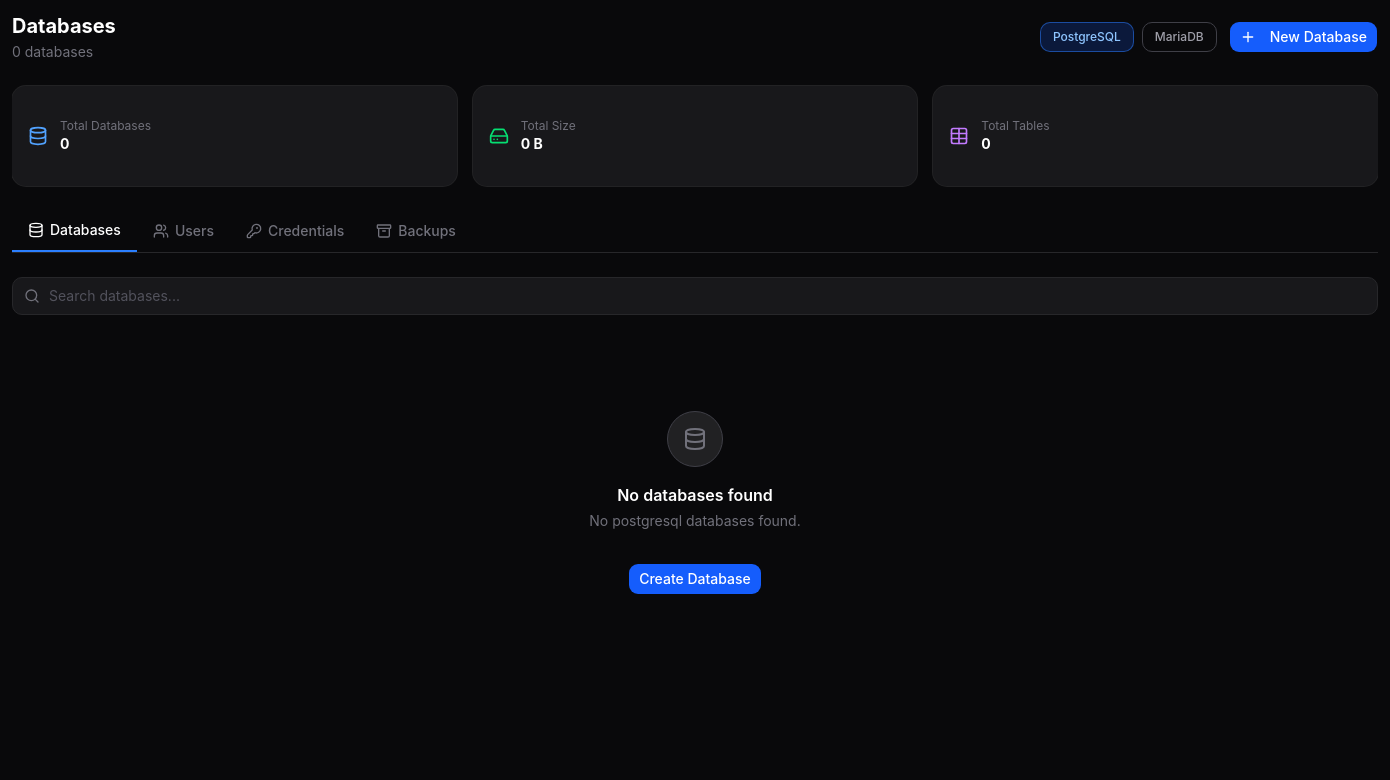
Scenario: Database page failure states › keeps backup inventory failures distinct from an empty backup directory
Check: the heading "No databases found" is shown, box [617, 483, 773, 507]
What coordinates should you click on to do the following:
click the button "Backups"
I would click on:
 (416, 231)
Its box is [360, 210, 472, 252].
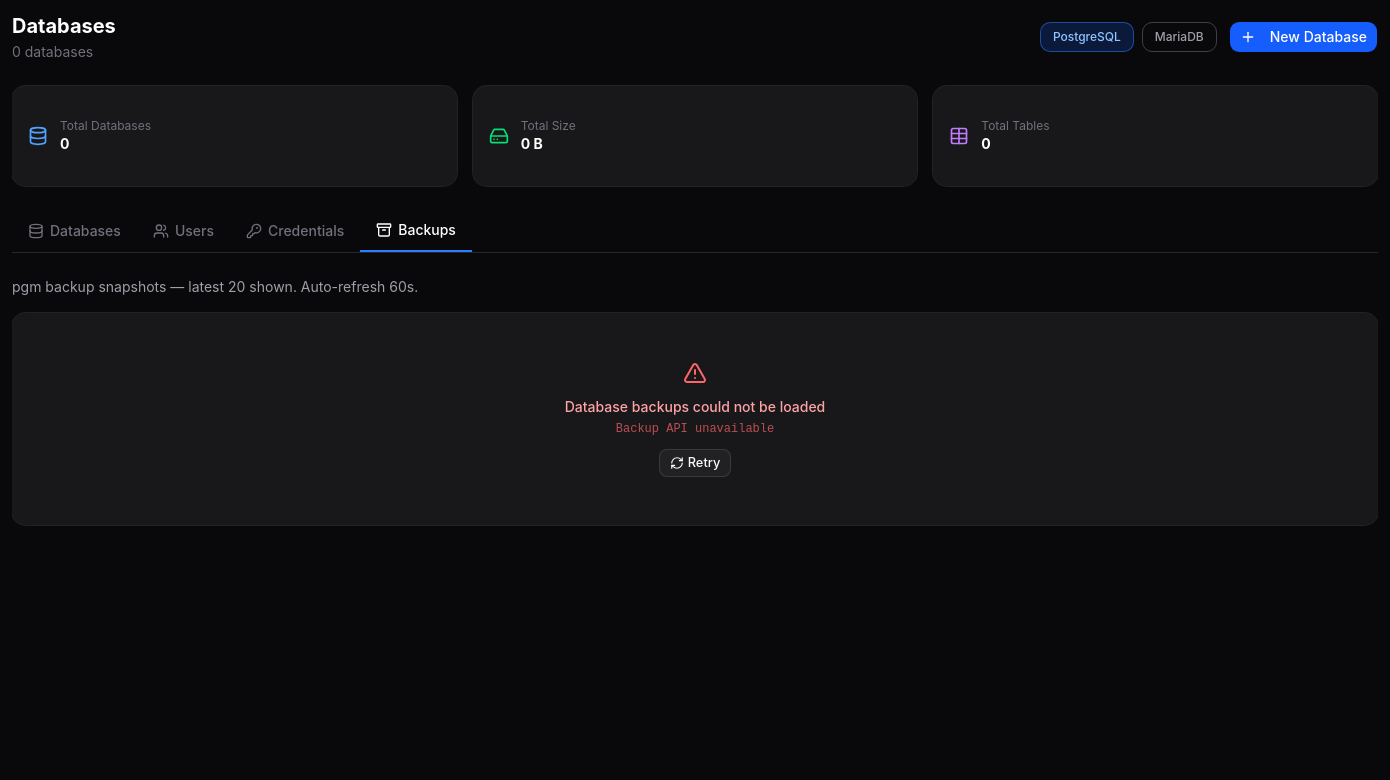
Check: the text "Database backups could not be loaded" is shown, box [565, 397, 825, 417]
Check: the text "Backup API unavailable" is shown, box [616, 422, 774, 436]
